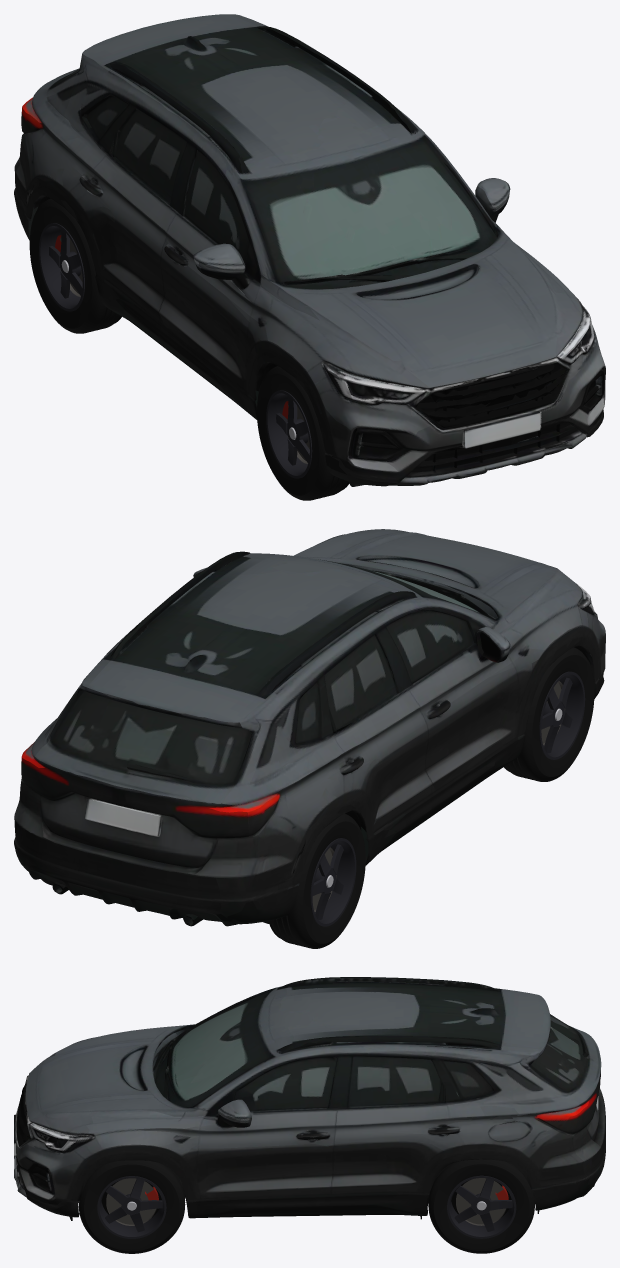
The model's file is suv.glb.
3 views of the same model, one above another, from view 1: azimuth 30°, elevation 25°; view 2: azimuth 150°, elevation 25°; view 3: azimuth 270°, elevation 25° (orthographic). The views are drawn at different scales.
Parts seen in each view (by area): view 1: karosserie, rad_hr, rad_vr; view 2: karosserie, rad_hr, rad_vr; view 3: karosserie, rad_hl, rad_vl.
Part boxes in pixels (x1=…): karosserie: x1=14, y1=14, x2=605, y2=486; rad_hr: x1=29, y1=198, x2=121, y2=333; rad_vr: x1=257, y1=366, x2=349, y2=500; karosserie: x1=14, y1=529, x2=605, y2=926; rad_hr: x1=269, y1=813, x2=365, y2=948; rad_vr: x1=504, y1=647, x2=594, y2=781; karosserie: x1=14, y1=977, x2=605, y2=1220; rad_hl: x1=428, y1=1159, x2=534, y2=1253; rad_vl: x1=78, y1=1160, x2=185, y2=1253.
Size of the model in its own units: 2.07 by 1.64 by 4.45.
3 materials, 1 textured.
